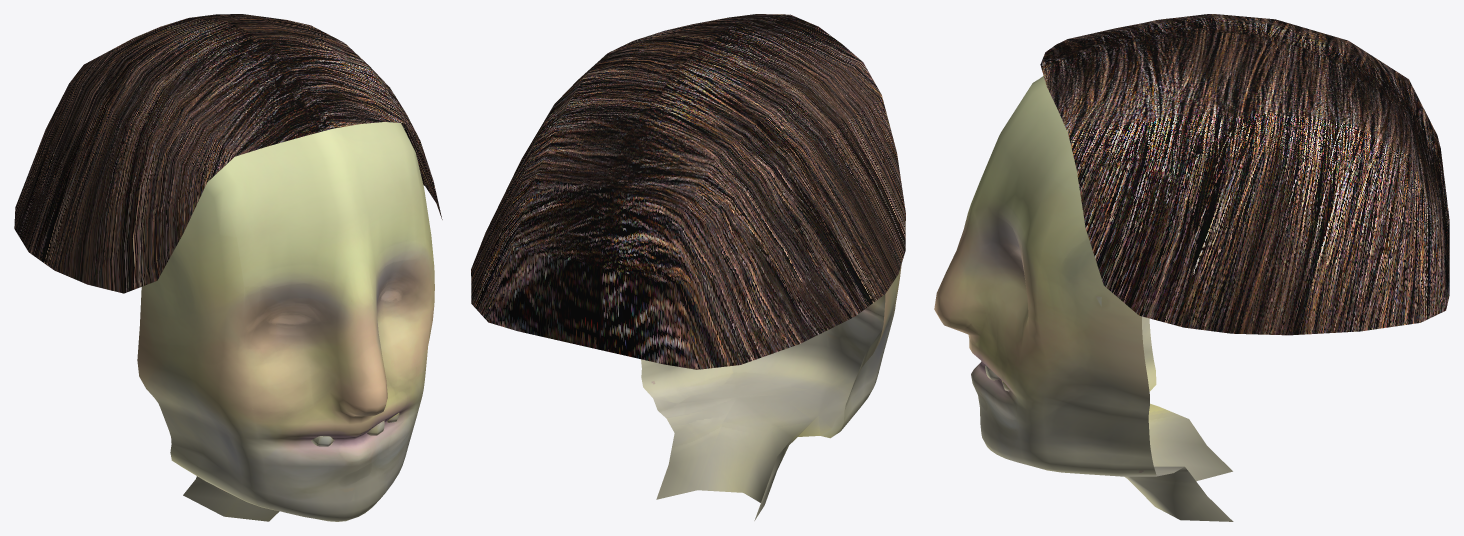
File: SM_Amir01_HeadOriented00.fbx
3 views of the same model, side by side, from view 1: azimuth 30°, elevation 25°; view 2: azimuth 150°, elevation 25°; view 3: azimuth 270°, elevation 25° (orthographic). The views are drawn at different scales.
Visible parts, largest first — view 1: SM_Amir01_HeadOriented00; view 2: SM_Amir01_HeadOriented00; view 3: SM_Amir01_HeadOriented00.
Part boxes in pixels (box(x1,y1,x2,y2)): SM_Amir01_HeadOriented00: box(14, 14, 442, 521); SM_Amir01_HeadOriented00: box(471, 14, 905, 520); SM_Amir01_HeadOriented00: box(934, 14, 1449, 521).
Bounding box in the file's own units: 41.23 × 49.49 × 47.96.
